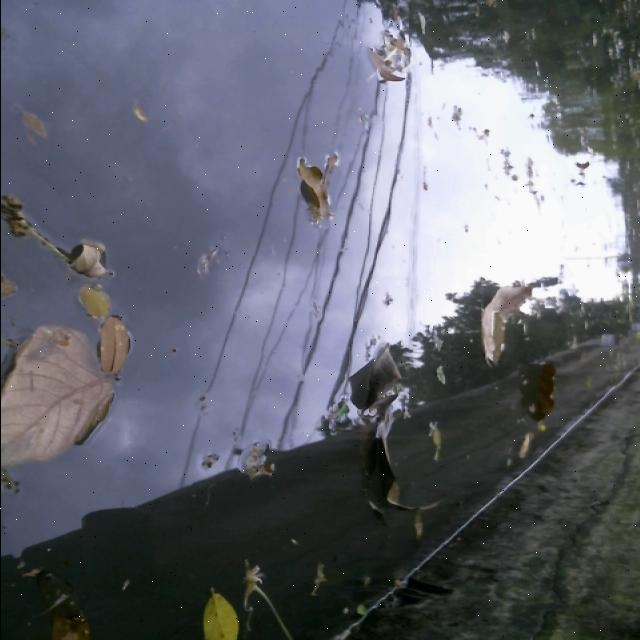Big-leaf: (0, 324, 120, 494), (358, 405, 428, 522), (475, 280, 538, 369), (355, 338, 403, 416), (525, 358, 560, 430)
Small-leaf: (57, 235, 104, 291), (195, 585, 241, 640), (94, 314, 134, 375), (298, 154, 329, 224), (44, 605, 97, 640), (74, 278, 112, 325), (192, 243, 225, 283), (22, 100, 45, 148), (422, 418, 447, 462), (245, 442, 272, 482), (372, 66, 410, 89), (0, 266, 19, 309), (387, 27, 416, 52), (431, 359, 454, 390), (406, 508, 427, 539), (367, 46, 392, 70), (515, 432, 533, 462), (130, 102, 151, 126)
